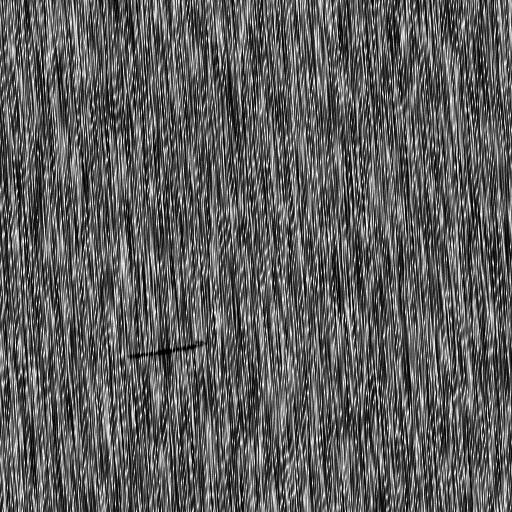DefectTypeC: (131, 339, 203, 358)
